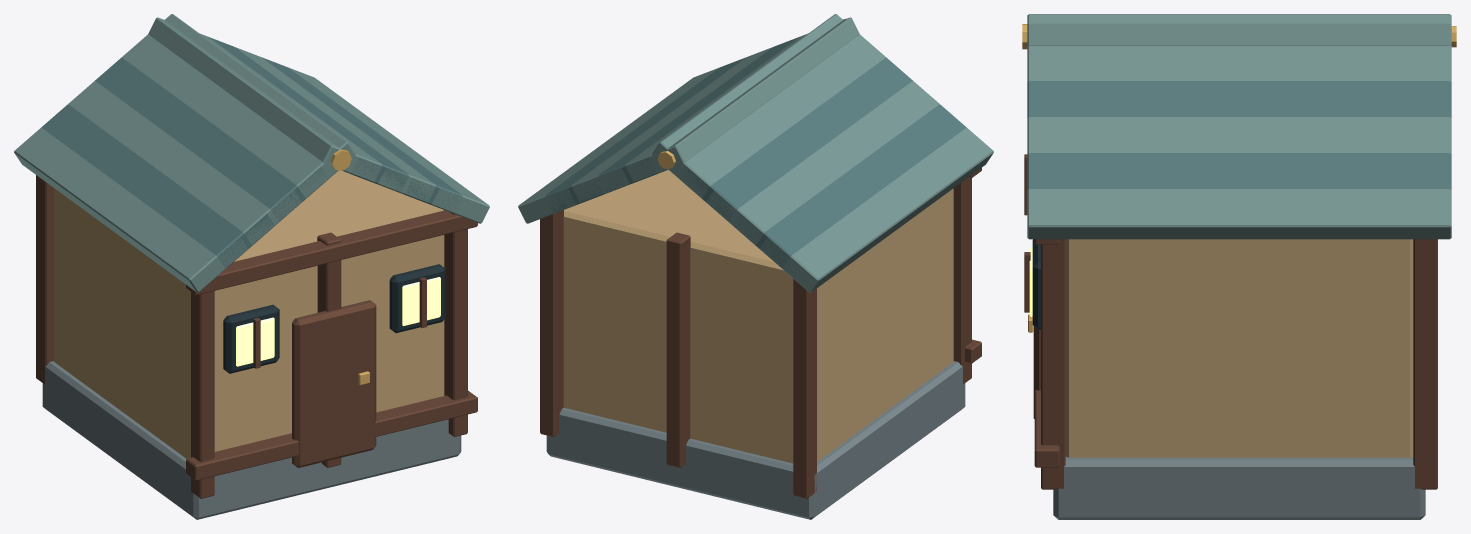
Rendered from hut.glb.
3 renders of one model, left to right at view 1: azimuth 30°, elevation 25°; view 2: azimuth 150°, elevation 25°; view 3: azimuth 270°, elevation 25°, orthographic. The views are drawn at different scales.
Visible parts, largest first — view 1: Geometry; view 2: Geometry; view 3: Geometry.
Part boxes in pixels (box(x1,y1,x2,y2)): Geometry: box(14, 14, 489, 519); Geometry: box(518, 14, 993, 519); Geometry: box(1022, 14, 1456, 519).
Size of the model in its own units: 2.02 by 2.27 by 2.1.
